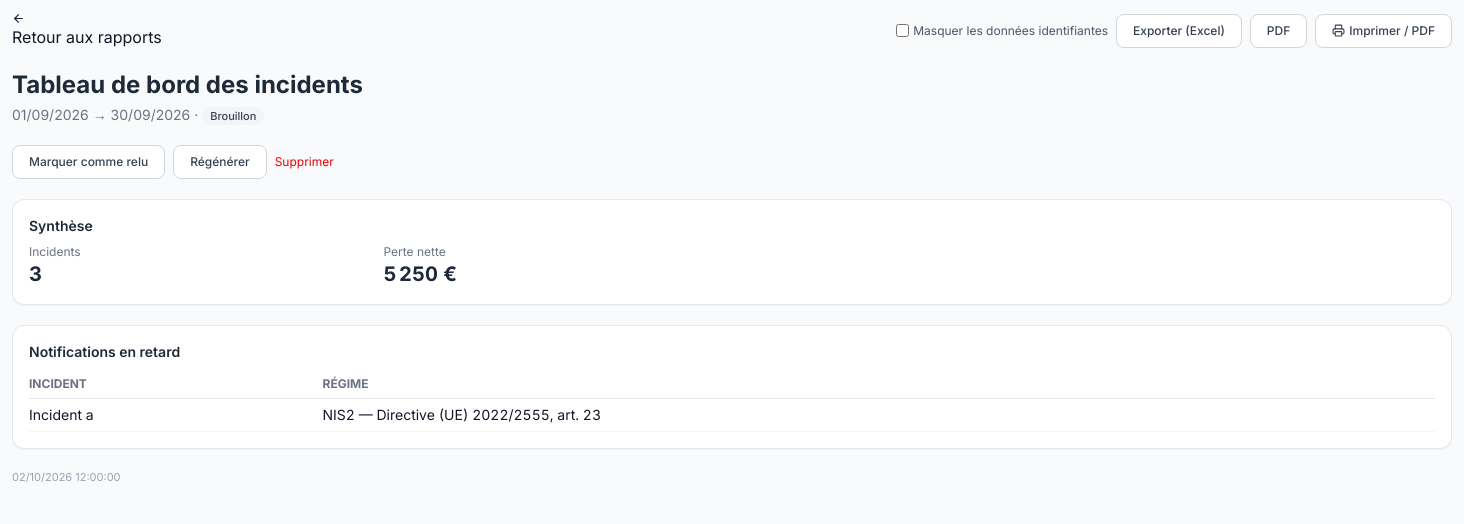
Test: RapportView › erreur quatre-yeux affichée
What coordinates should you click on to do the following:
click the button "Marquer comme relu"
I would click on:
 (89, 162)
Its box is [12,145,165,179].
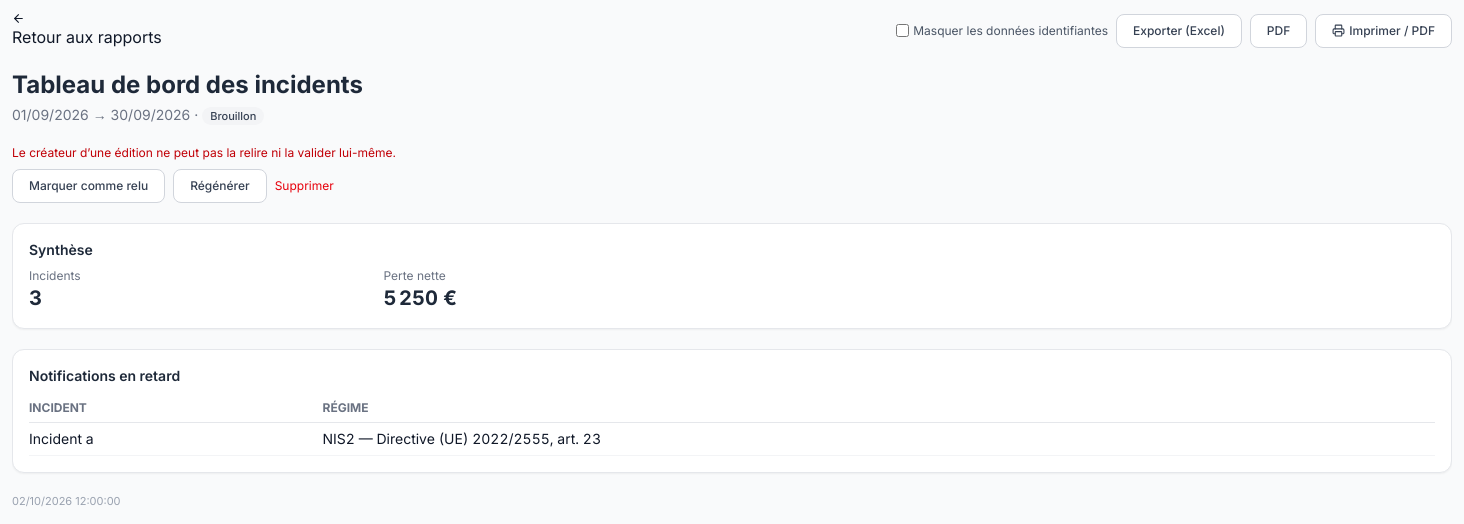
Expected: the text "Le créateur d’une édition ne peut pas la relire ni la valider lui-même." is shown, [12,145,396,160]
